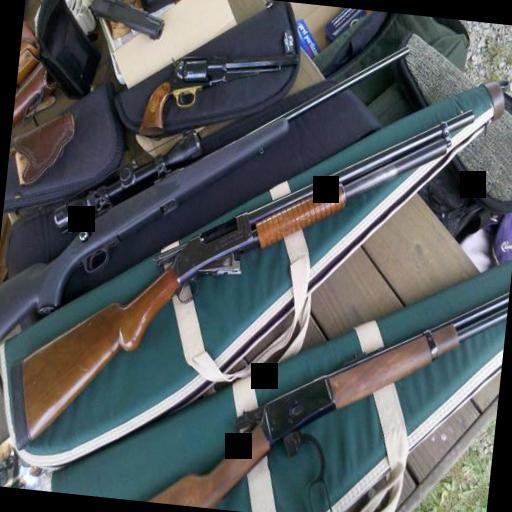Handgun: (133, 30, 299, 153), (82, 0, 166, 47)
